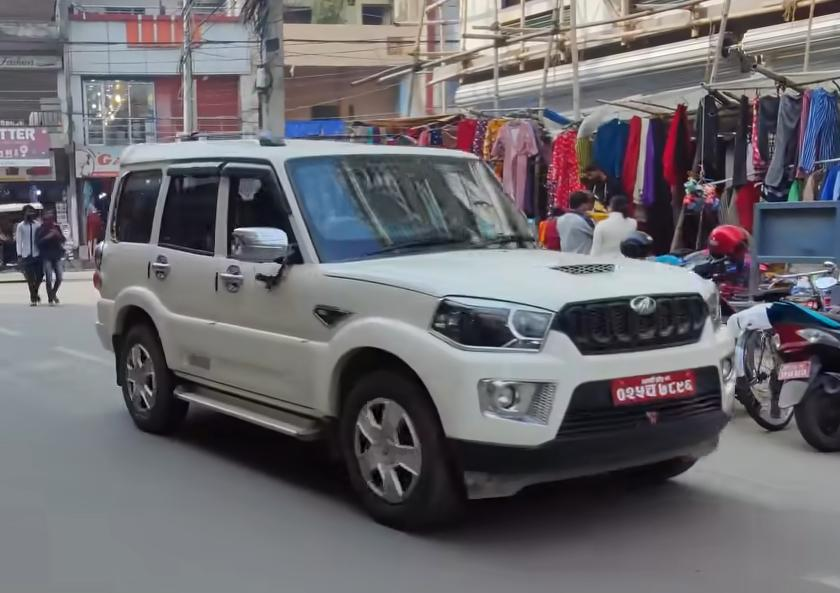SUV: (91, 128, 748, 532)
